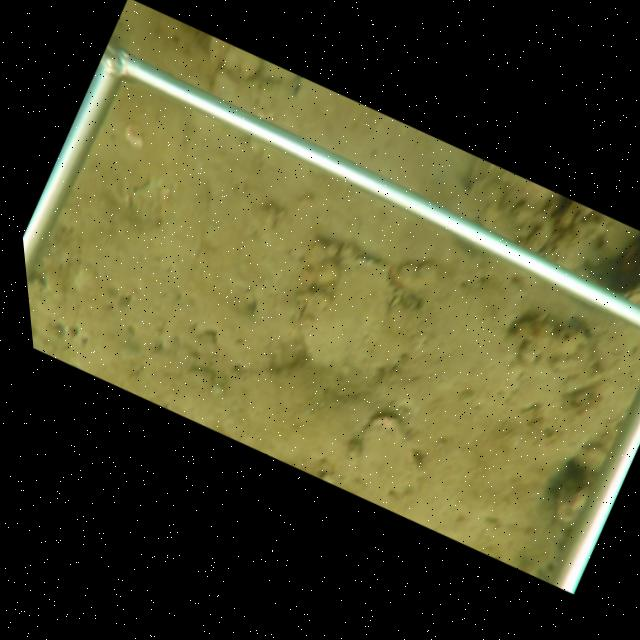Oyster-Indeterminate: (293, 257, 399, 373)
